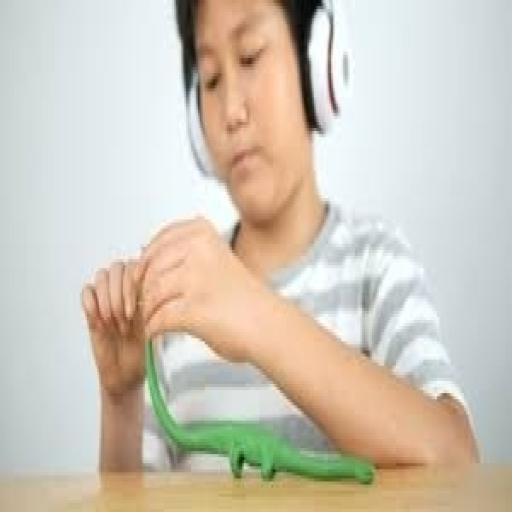listening_to_music: (80, 0, 483, 482)
